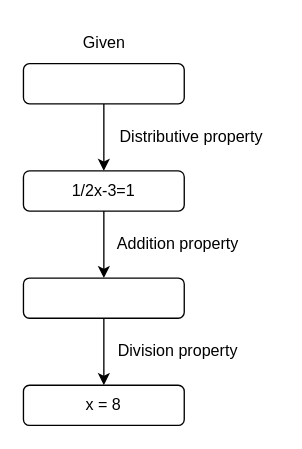
Image size: 302x449. Some labels were removed from this diagram. Each missing label, with the centre of its shape:
"1/2(x-6)=1" goes at pixel 103 83.
"1/2x = 4" goes at pixel 103 297.
